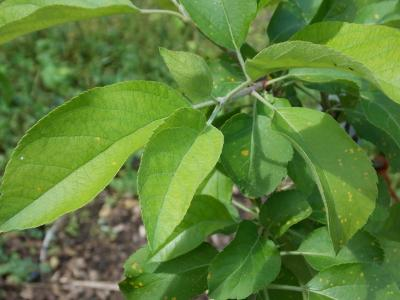Apple leaf: (2, 66, 196, 241), (267, 100, 386, 261), (136, 102, 227, 263)
